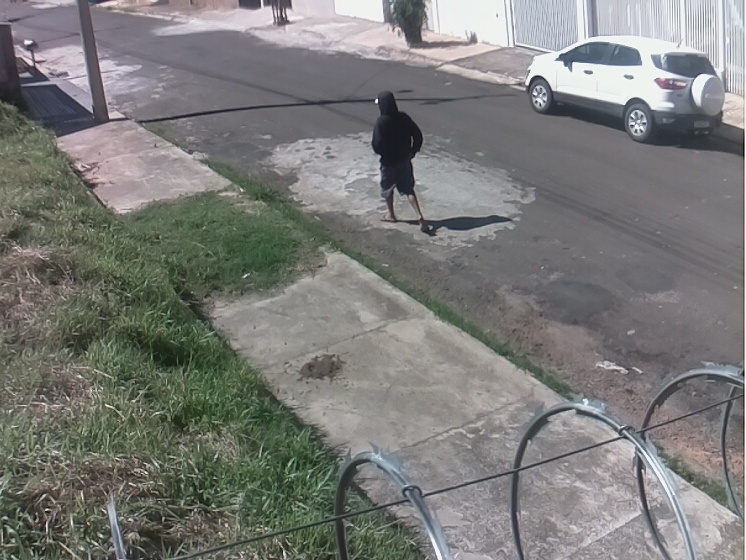person: (371, 91, 429, 235)
